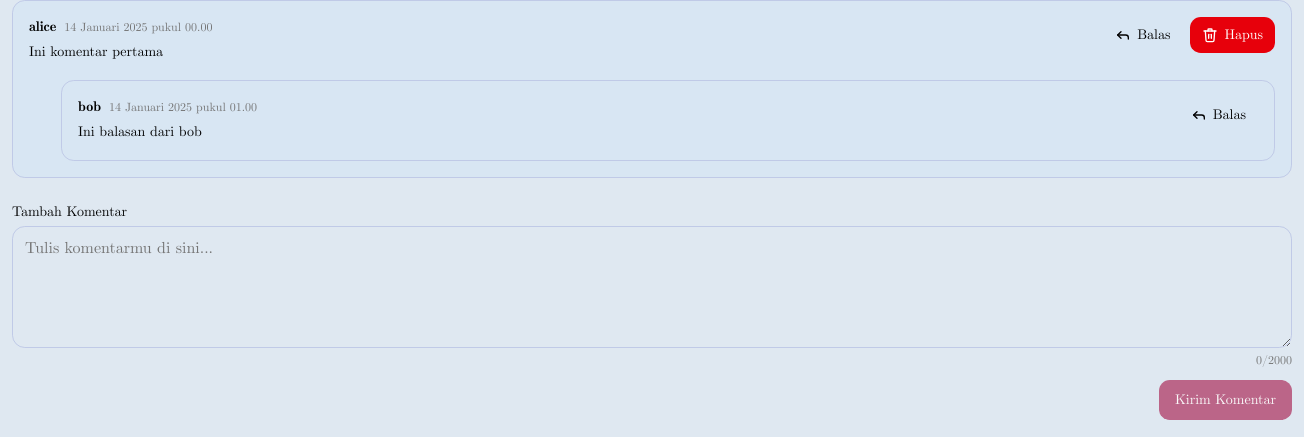
Test case: CommentList › klik "Balas" pada balasan mengisi top-level form dengan @username, tidak membuka form baru
Note: Click the Reply button on the nested reply
Click the button with test id "reply-button". click: (1218, 115)
box: x1=1179 y1=97 x2=1258 y2=133
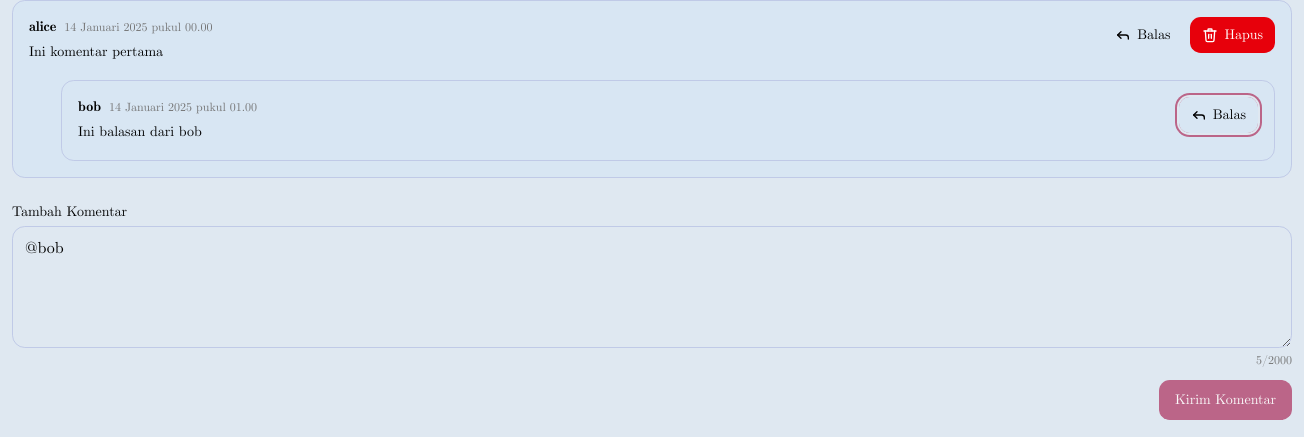
expect the text box holds "@bob ": met, box x1=12 y1=226 x2=1292 y2=348
